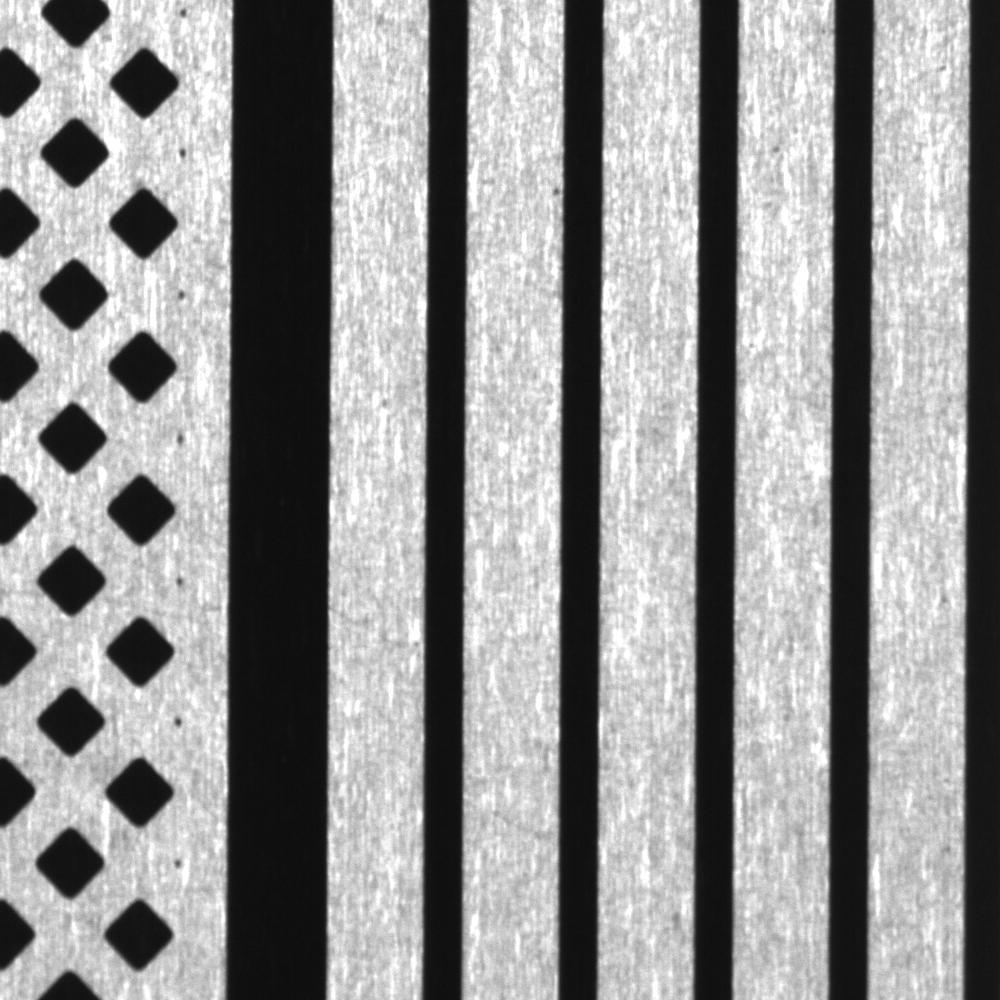Pinhole: (531, 167, 562, 208)
Scar: (468, 784, 554, 850), (491, 8, 561, 83), (326, 587, 402, 656), (93, 579, 201, 624), (329, 667, 398, 732)
